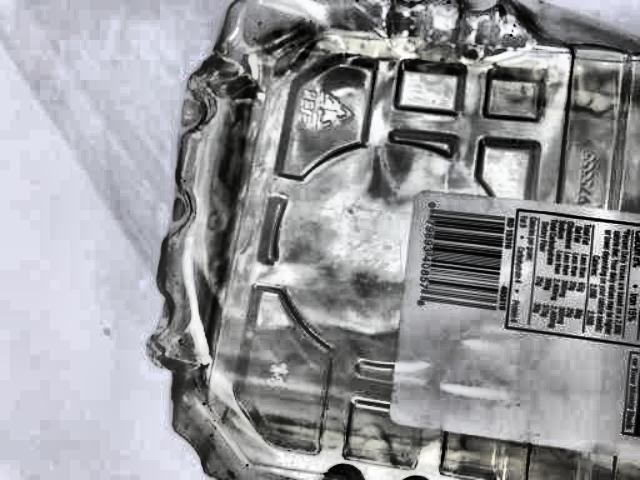Bottles: (157, 0, 640, 480)
